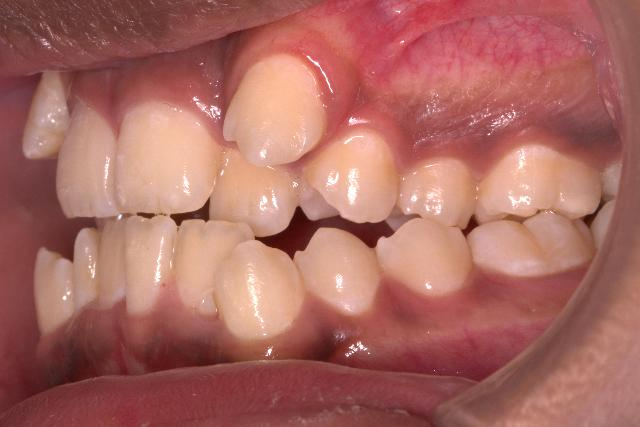canine class II 1/2: (212, 40, 378, 346)
molar class I: (467, 133, 605, 285)
